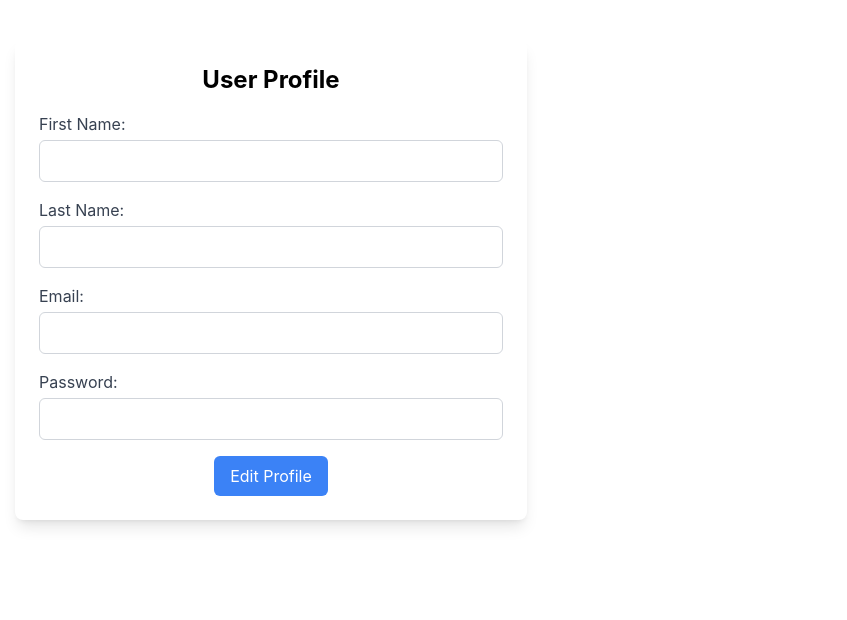
Scenario: Profile (integration) › requires password when submitting profile update
Expected: the field labelled "First Name:" is shown, top-left (39, 140), bottom-right (503, 182)
Click the button "Edit Profile". click: click(271, 476)
box: top-left (214, 456), bottom-right (328, 496)
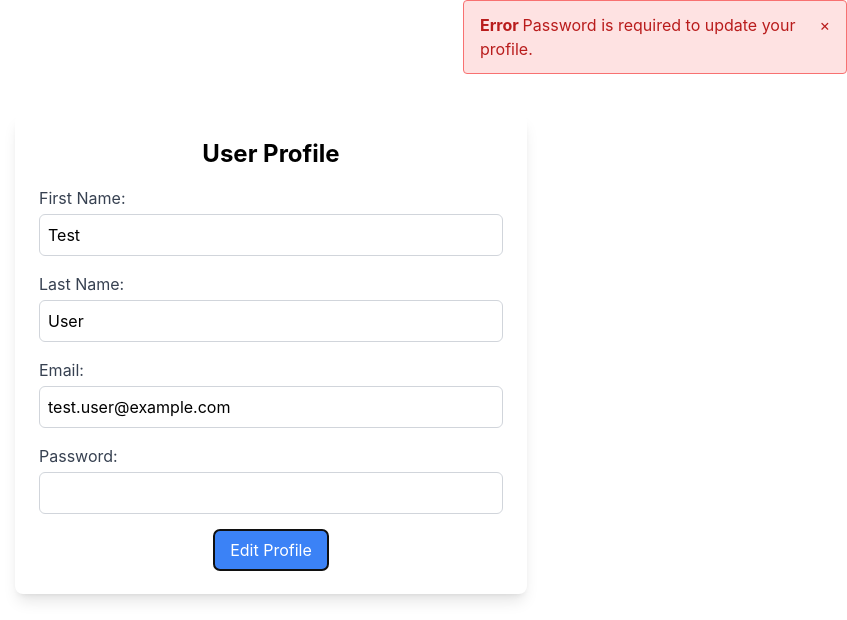
Expected: the text "Password is required to update your profile." is shown, top-left (480, 15), bottom-right (795, 59)
